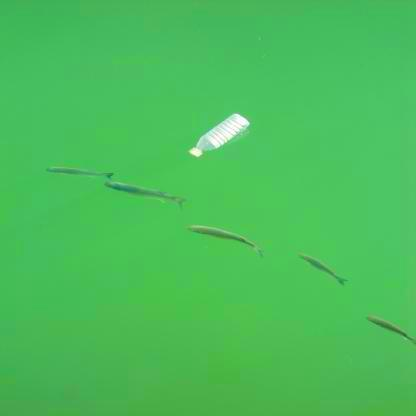plastic bottle: (187, 113, 250, 157)
